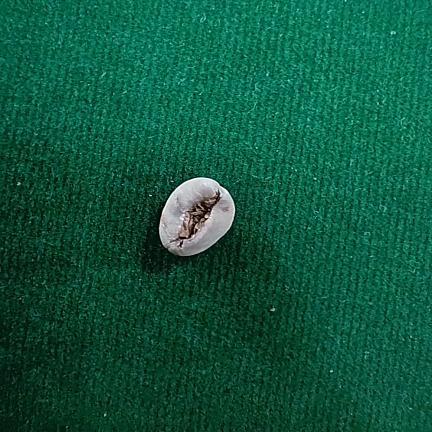immature: (159, 177, 235, 256)
